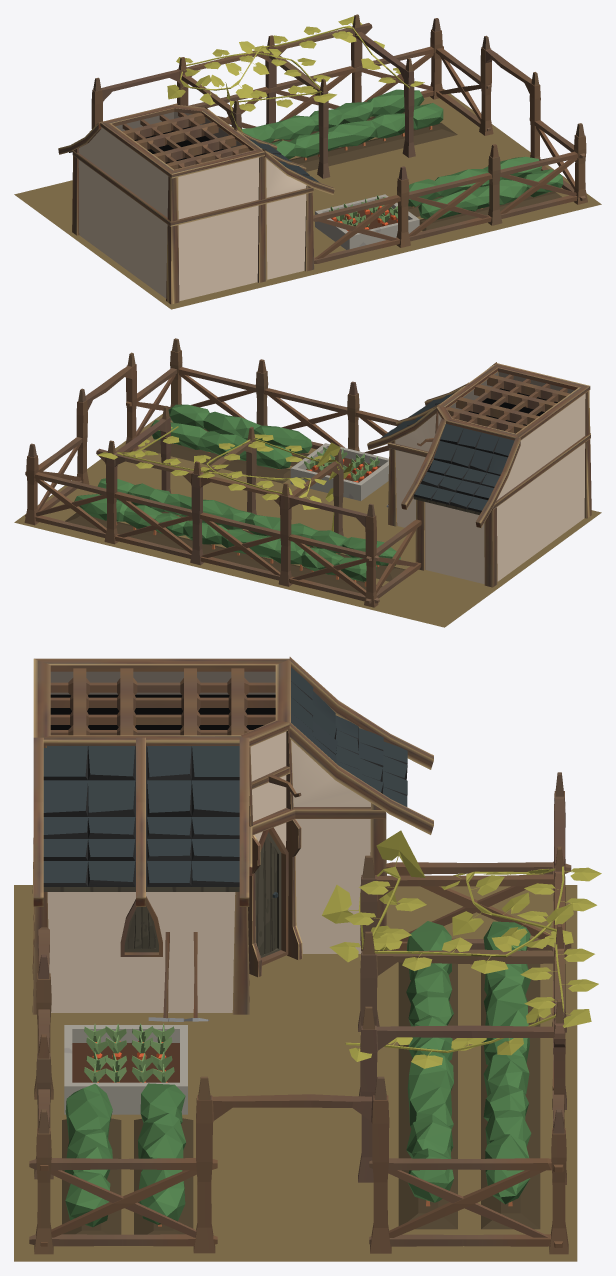
The model's file is Farm.fbx.
3 views of the same model, one above another, from view 1: azimuth 30°, elevation 25°; view 2: azimuth 150°, elevation 25°; view 3: azimuth 270°, elevation 25° (orthographic). The views are drawn at different scales.
Visible parts, largest first — view 1: Farm House, Farm, Fence Pole, Vine Stalk, roof grid, Pillars.005, Bush 2, Bush 1, Roof grid support, Fence Link 8, Fence Link 7, Bush 3 (+12 smaller); view 2: Farm House, Farm, Fence Pole, Bush 1, roof grid, Vine Stalk, Bush 2, Fence Link 1 (×2), Pillars.005, Roof grid support, Bush 3, Dirt 1 (+15 smaller); view 3: Farm, Farm House, Fence Pole, Vine Stalk, roof grid, Bush 2, Bush 1, Roof grid support, Pillars.005, Fence Link 3, Fence Link 2, plantation (+15 smaller).
Boxes of the visible parts, x1,y1,x2,y2 form: Farm House: [69, 112, 319, 301]; Farm: [14, 89, 601, 309]; Fence Pole: [91, 14, 587, 247]; Vine Stalk: [167, 16, 424, 132]; roof grid: [122, 112, 249, 169]; Pillars.005: [72, 148, 314, 304]; Bush 2: [271, 103, 443, 160]; Bush 1: [242, 89, 424, 143]; Roof grid support: [100, 104, 264, 178]; Fence Link 8: [313, 195, 400, 263]; Fence Link 7: [409, 173, 492, 241]; Bush 3: [418, 169, 563, 219]; Farm House: [380, 372, 590, 584]; Farm: [14, 414, 601, 627]; Fence Pole: [24, 338, 378, 607]; Bush 1: [74, 494, 376, 586]; roof grid: [446, 374, 569, 433]; Vine Stalk: [97, 426, 352, 531]; Bush 2: [97, 478, 400, 566]; Fence Link 1 (×2): [288, 519, 421, 603]; Pillars.005: [388, 371, 591, 587]; Roof grid support: [436, 363, 590, 440]; Bush 3: [168, 404, 312, 454]; Dirt 1: [65, 513, 382, 593]; Farm: [14, 885, 577, 1261]; Farm House: [43, 667, 407, 1012]; Fence Pole: [34, 772, 568, 1254]; Vine Stalk: [322, 830, 601, 1068]; roof grid: [50, 668, 275, 735]; Bush 2: [406, 921, 453, 1206]; Bush 1: [483, 921, 531, 1206]; Roof grid support: [33, 658, 290, 746]; Pillars.005: [32, 729, 386, 1014]; Fence Link 3: [369, 1158, 551, 1246]; Fence Link 2: [29, 1158, 217, 1246]; plantation: [64, 1025, 187, 1114].
Size of the model in its own units: 3002 by 1982 by 876.
